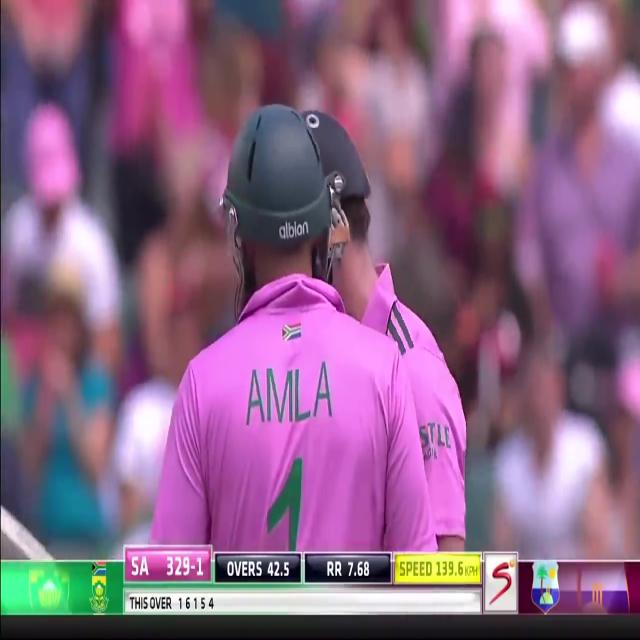Ball: (159, 101, 468, 555)
